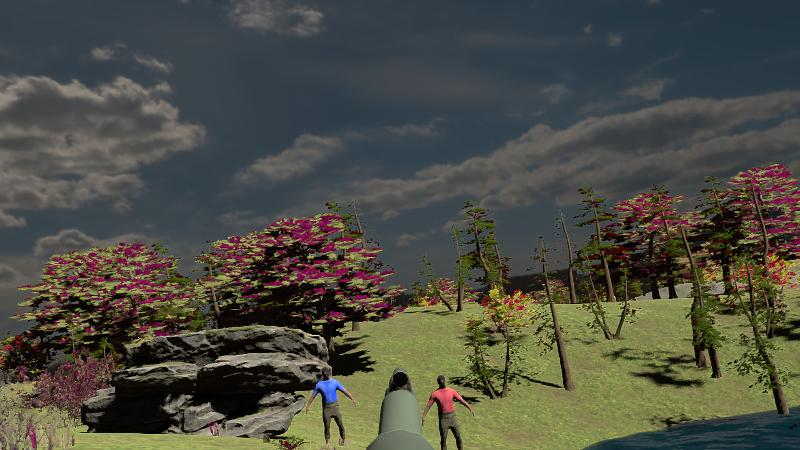Human: (306, 367, 356, 449), (421, 374, 473, 450)
